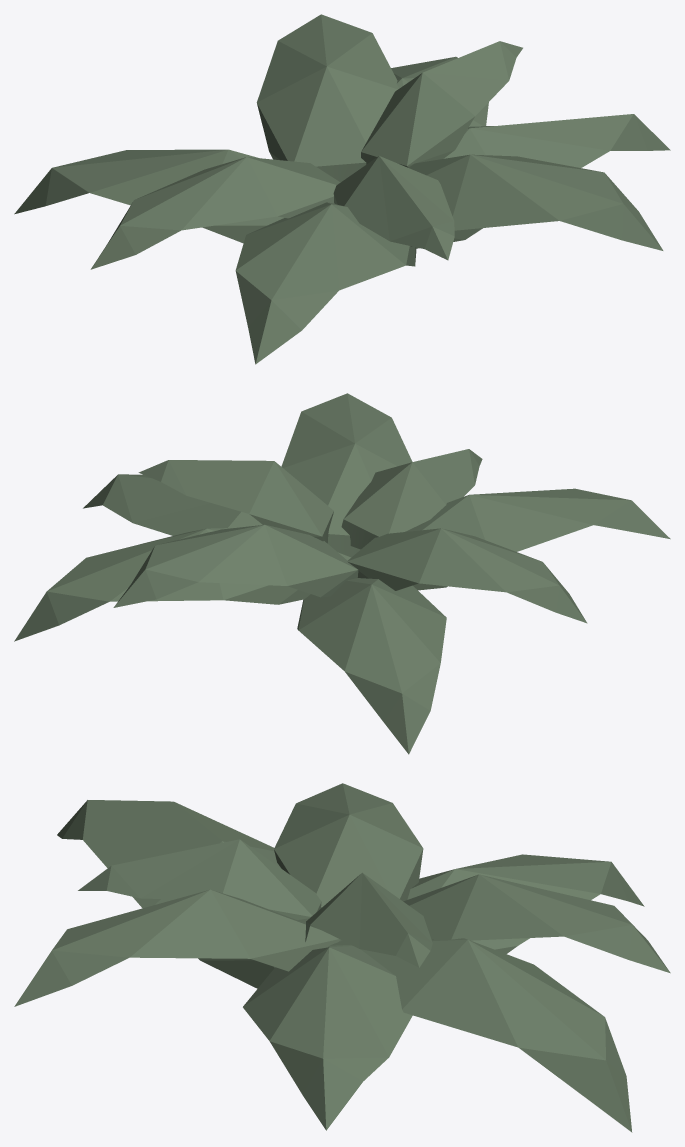
File: SM_Env_Plant_02.fbx
3 views of the same model, one above another, from view 1: azimuth 30°, elevation 25°; view 2: azimuth 150°, elevation 25°; view 3: azimuth 270°, elevation 25° (orthographic). The views are drawn at different scales.
Visible parts, largest first — view 1: SM_Env_Plant_02; view 2: SM_Env_Plant_02; view 3: SM_Env_Plant_02.
Boxes of the visible parts, x1,y1,x2,y2 form: SM_Env_Plant_02: [14, 14, 670, 364]; SM_Env_Plant_02: [14, 393, 670, 754]; SM_Env_Plant_02: [14, 783, 670, 1132].
Bounding box in the file's own units: 0.0246 × 0.00686 × 0.0222.
Materials: 1 (1 with a texture image).
